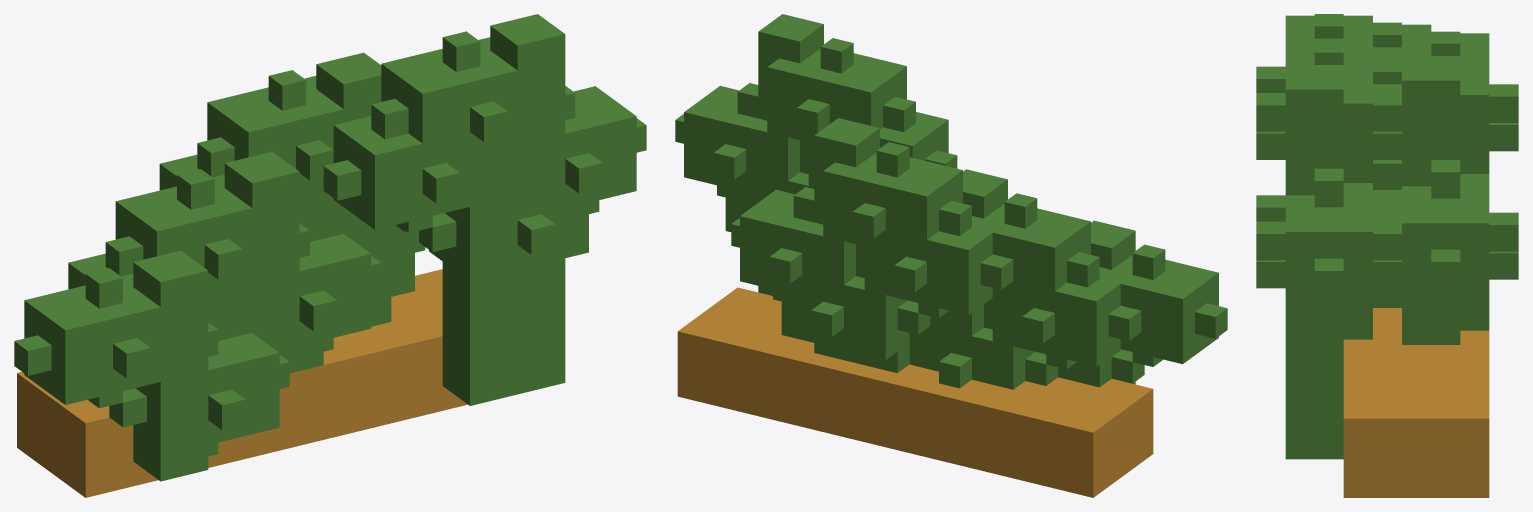
File: voxel_32_40052.glb
3 renders of one model, left to right at view 1: azimuth 30°, elevation 25°; view 2: azimuth 150°, elevation 25°; view 3: azimuth 270°, elevation 25°, orthographic. The views are drawn at different scales.
Parts seen in each view (by area): view 1: prop_40052; view 2: prop_40052; view 3: prop_40052.
Part boxes in pixels (x1,y1,x2,y2): prop_40052: (14,14,646,497); prop_40052: (675,14,1227,497); prop_40052: (1256,14,1518,497).
Size of the model in its own units: 0.6744 by 0.3891 by 0.2334.
